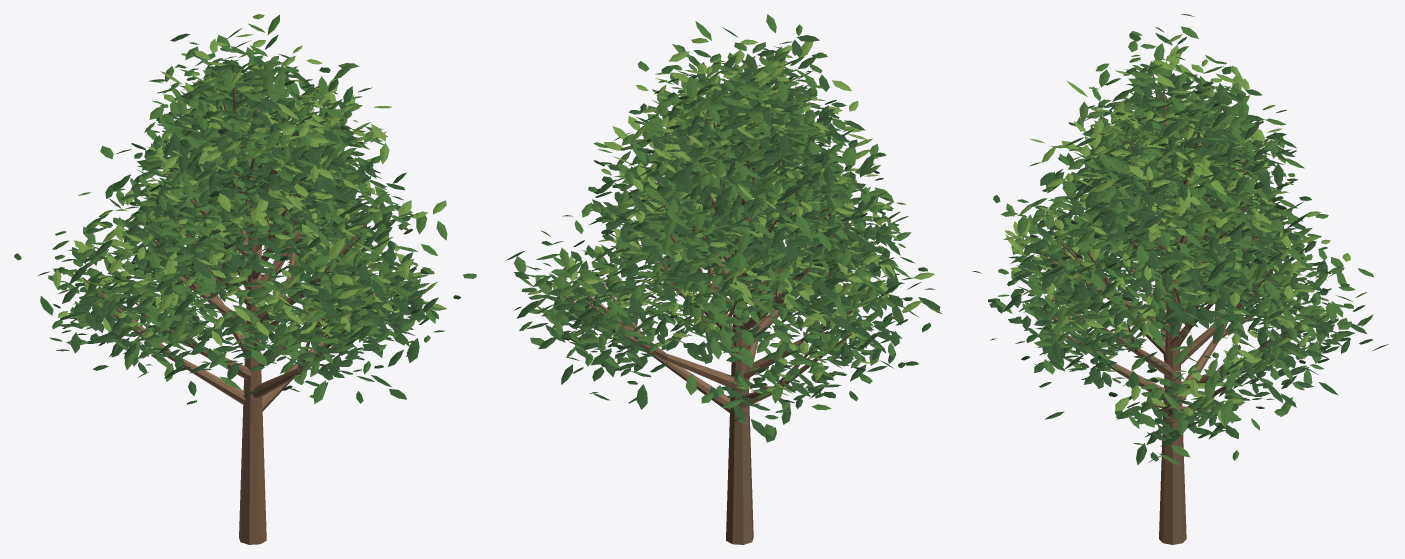
File: lovtrad.glb
3 views of the same model, side by side, from view 1: azimuth 30°, elevation 25°; view 2: azimuth 150°, elevation 25°; view 3: azimuth 270°, elevation 25° (orthographic). The views are drawn at different scales.
Visible parts, largest first — view 1: Kajträd; view 2: Kajträd; view 3: Kajträd.
Part boxes in pixels (<box>): Kajträd: <box>14,14,476,544</box>; Kajträd: <box>506,14,941,544</box>; Kajträd: <box>972,14,1388,544</box>.
Size of the model in its own units: 6.17 by 7.61 by 5.74.
